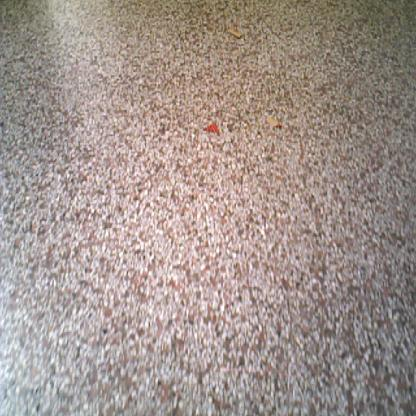dirty: (202, 120, 220, 136), (265, 115, 282, 128), (225, 27, 242, 39)
